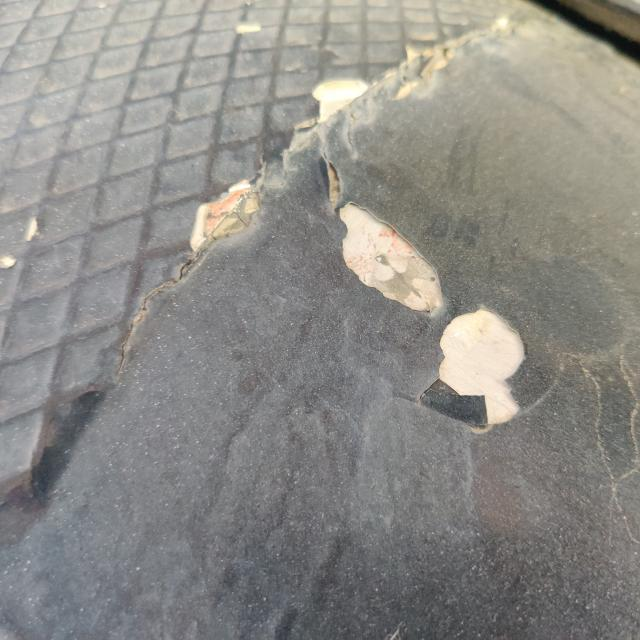paint-off: (301, 149, 559, 461), (164, 160, 282, 277), (284, 64, 384, 137)
